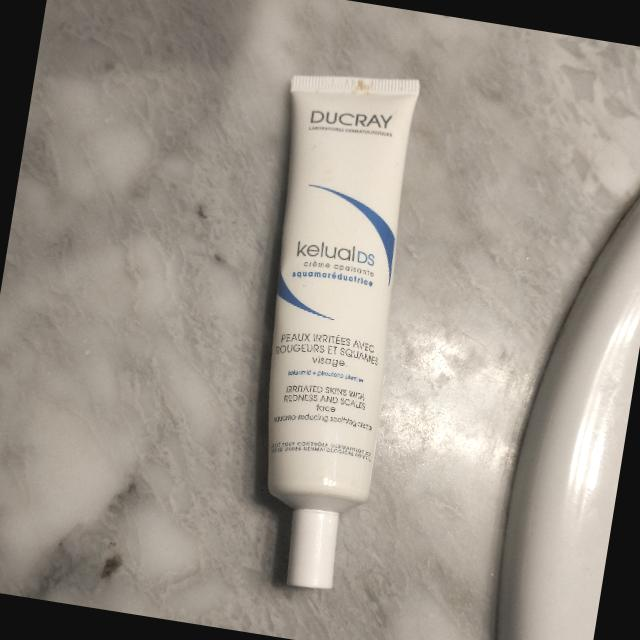tubo: (210, 58, 439, 600)
